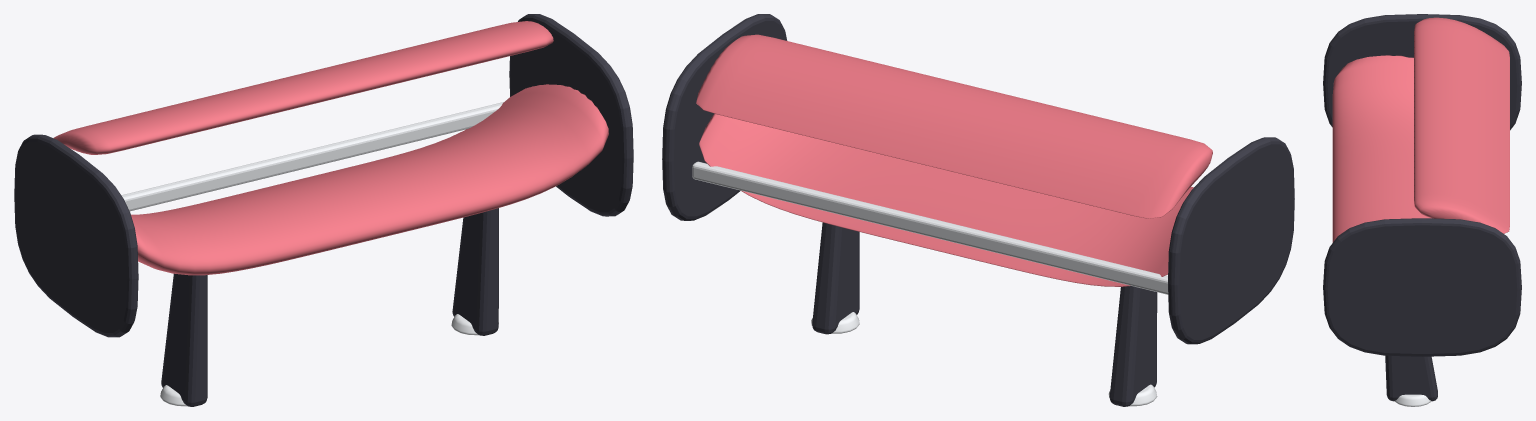
Rendered from spoiler-dev.glb.
The picture shows the model from 3 angles, left to right: view 1: azimuth 30°, elevation 25°; view 2: azimuth 150°, elevation 25°; view 3: azimuth 270°, elevation 25°; orthographic projection. The views are drawn at different scales.
Visible parts, largest first — view 1: wing, plate-1, wing2, plate1, gurney, post-1, post1; view 2: wing2, wing, plate-1, gurney, plate1, post-1, post1; view 3: plate1, wing2, wing, plate-1, post1, pad1.
Part boxes in pixels (x1=…): wing: x1=131, y1=84, x2=608, y2=275; plate-1: x1=14, y1=134, x2=138, y2=337; wing2: x1=53, y1=21, x2=553, y2=154; plate1: x1=509, y1=14, x2=633, y2=216; gurney: x1=121, y1=102, x2=503, y2=211; post-1: x1=161, y1=273, x2=207, y2=406; post1: x1=452, y1=208, x2=498, y2=335; wing2: x1=696, y1=34, x2=1212, y2=218; wing: x1=699, y1=113, x2=1193, y2=286; plate-1: x1=1168, y1=137, x2=1294, y2=344; gurney: x1=692, y1=161, x2=1168, y2=294; plate1: x1=662, y1=14, x2=787, y2=220; post-1: x1=1109, y1=286, x2=1157, y2=406; post1: x1=812, y1=222, x2=859, y2=334; plate1: x1=1323, y1=218, x2=1521, y2=356; wing2: x1=1414, y1=17, x2=1509, y2=233; wing: x1=1332, y1=55, x2=1431, y2=242; plate-1: x1=1323, y1=14, x2=1521, y2=130; post1: x1=1385, y1=355, x2=1437, y2=401; pad1: x1=1394, y1=394, x2=1431, y2=406.
Bounding box in the file's own units: 1.04 × 0.5336 × 0.42.
